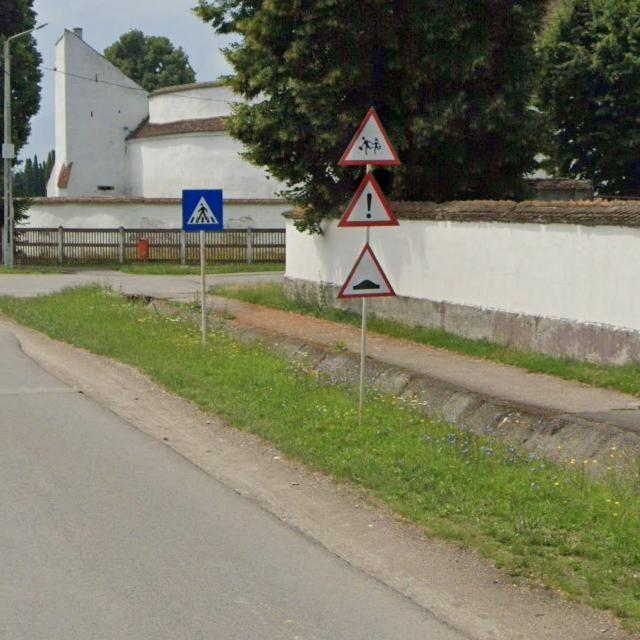info_crosswalk: (182, 189, 224, 232)
